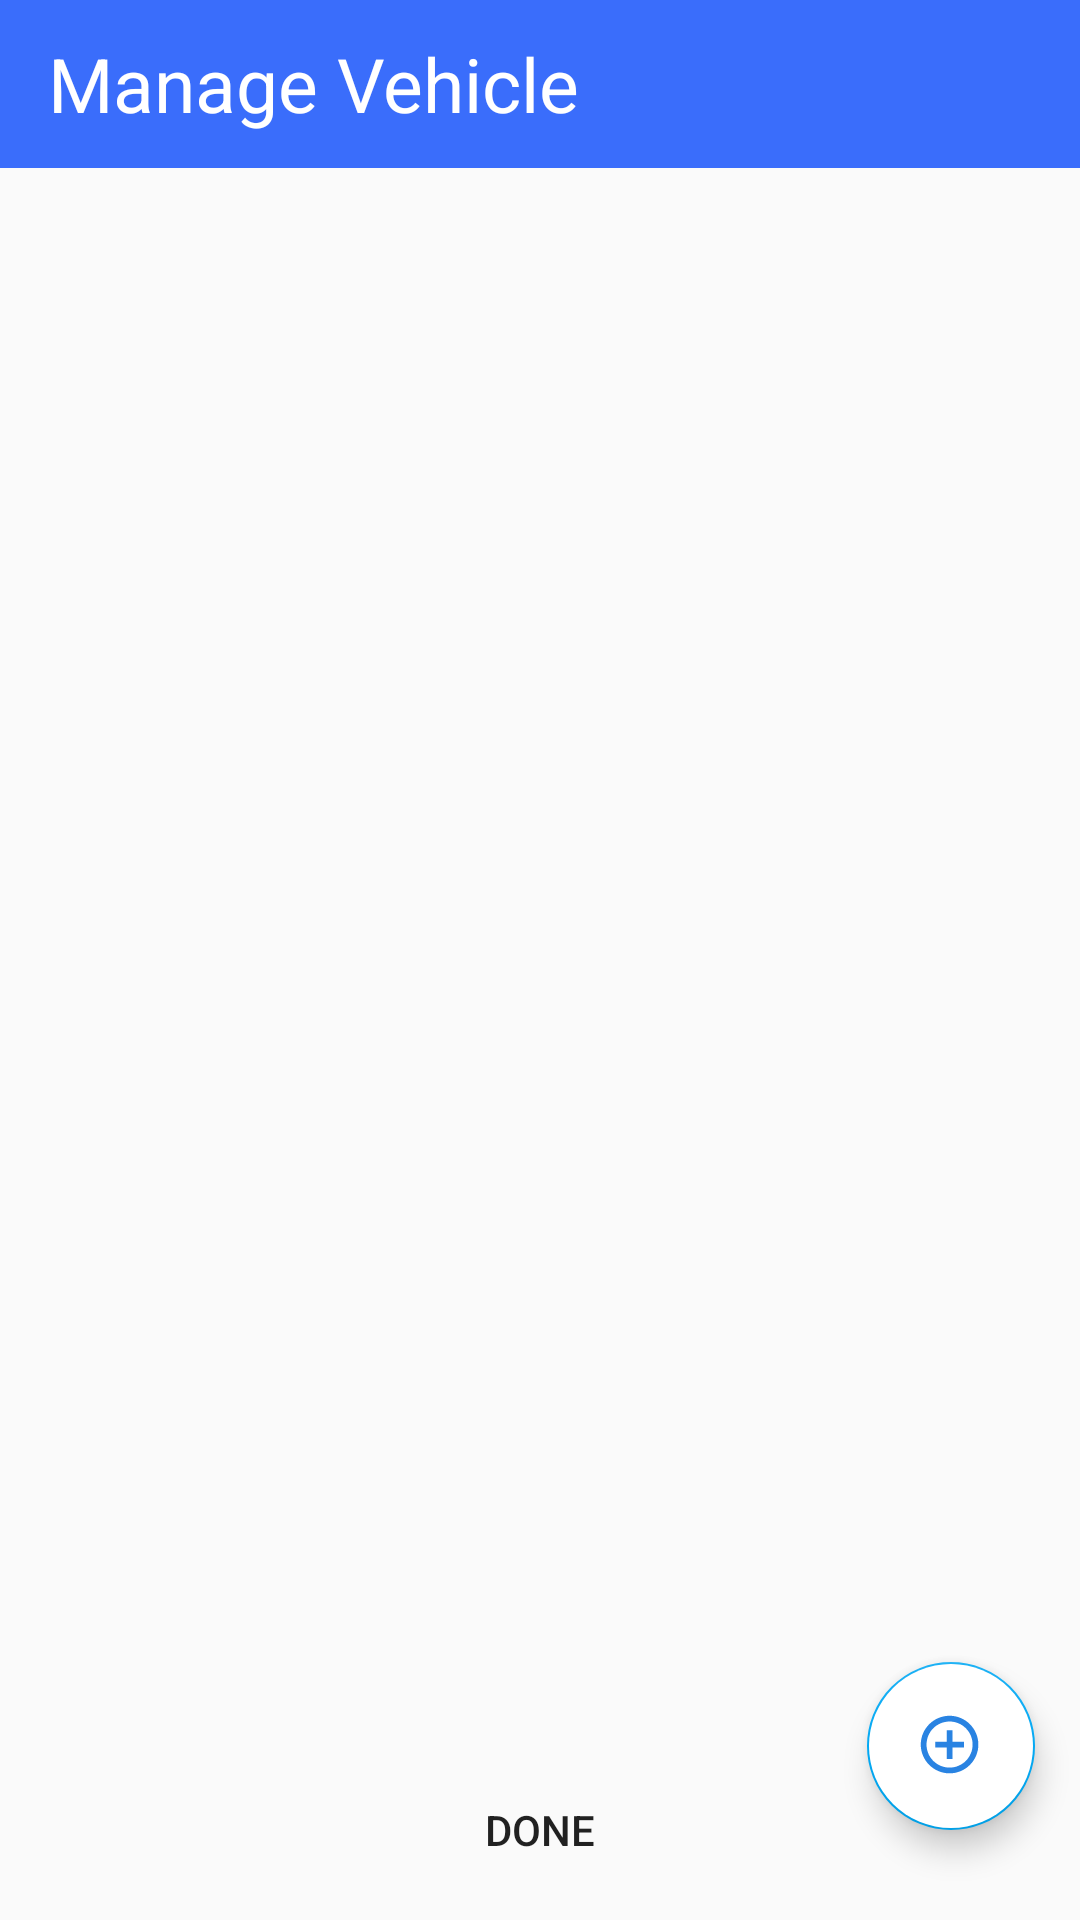

Icons on this 1080x1920 Android screen, each with the point to tap as (x=x, y=y):
floating action: (x=951, y=1746)
